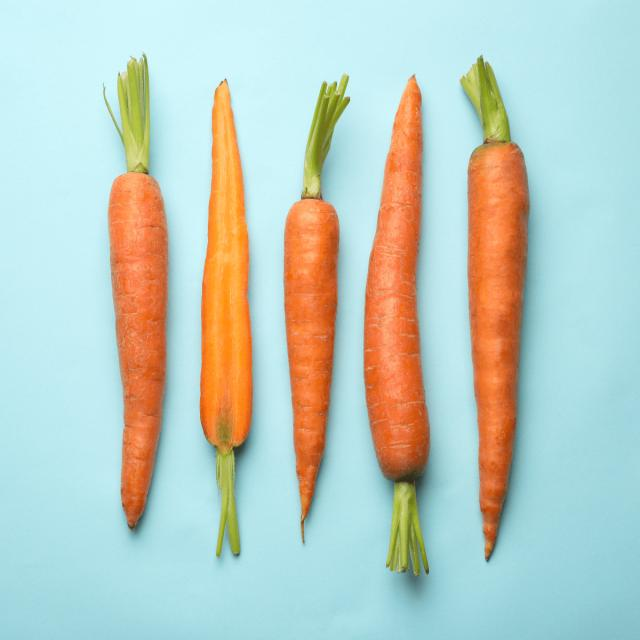Carrot: (199, 82, 259, 568), (464, 141, 530, 570), (365, 74, 433, 484), (104, 174, 170, 530), (282, 195, 341, 542)
